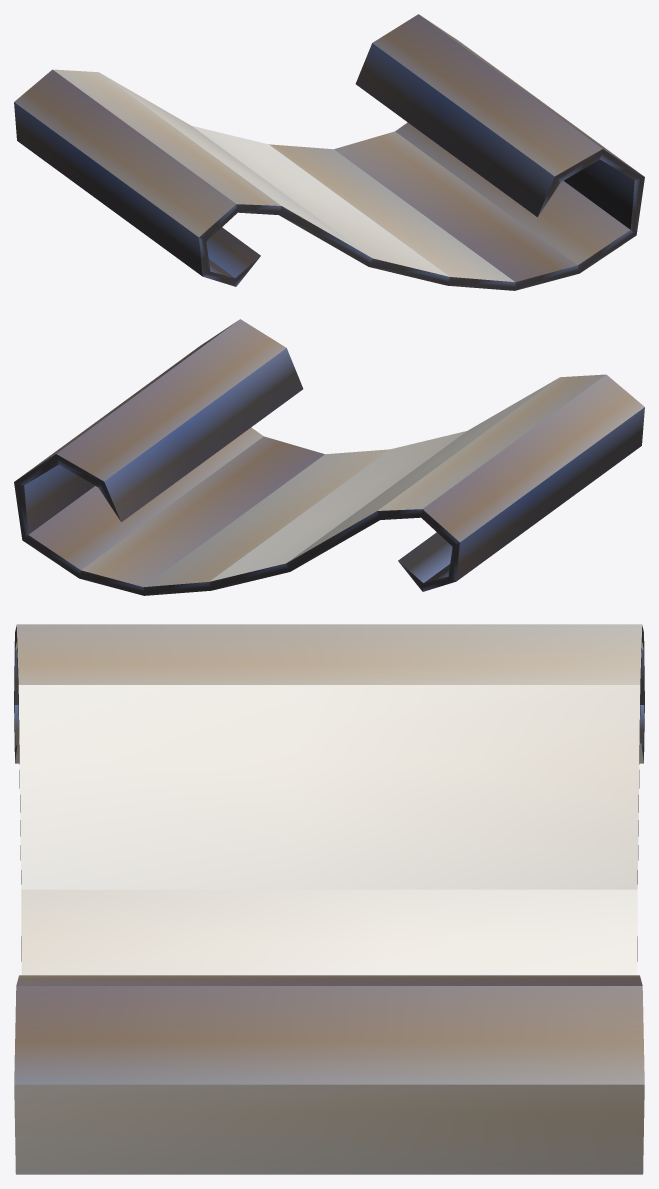
Rendered from message01.fbx.
3 views of the same model, one above another, from view 1: azimuth 30°, elevation 25°; view 2: azimuth 150°, elevation 25°; view 3: azimuth 270°, elevation 25° (orthographic). The views are drawn at different scales.
Parts seen in each view (by area): view 1: message01; view 2: message01; view 3: message01.
Part boxes in pixels (<box>): message01: <box>14,14,644,290</box>; message01: <box>14,319,644,595</box>; message01: <box>14,624,644,1174</box>.
Bounding box in the file's own units: 112 × 37.38 × 80.68.
